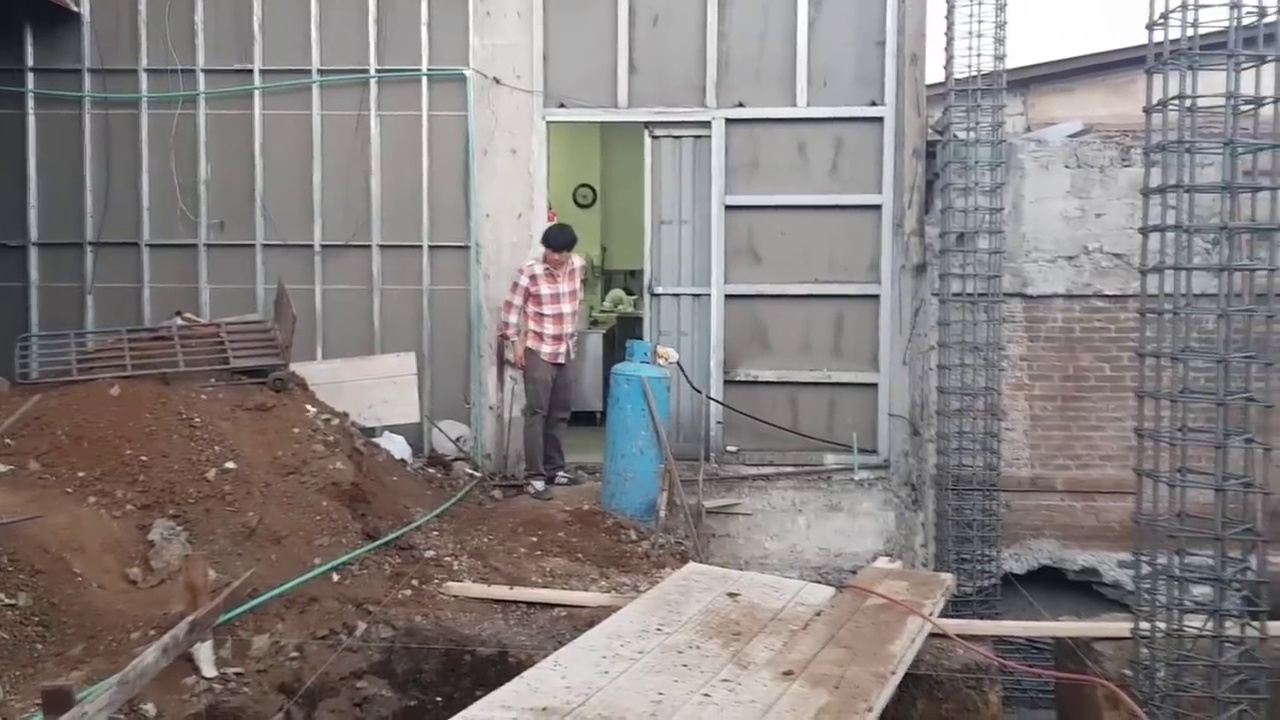helmet-off: (541, 224, 579, 273)
person: (500, 224, 588, 502)
